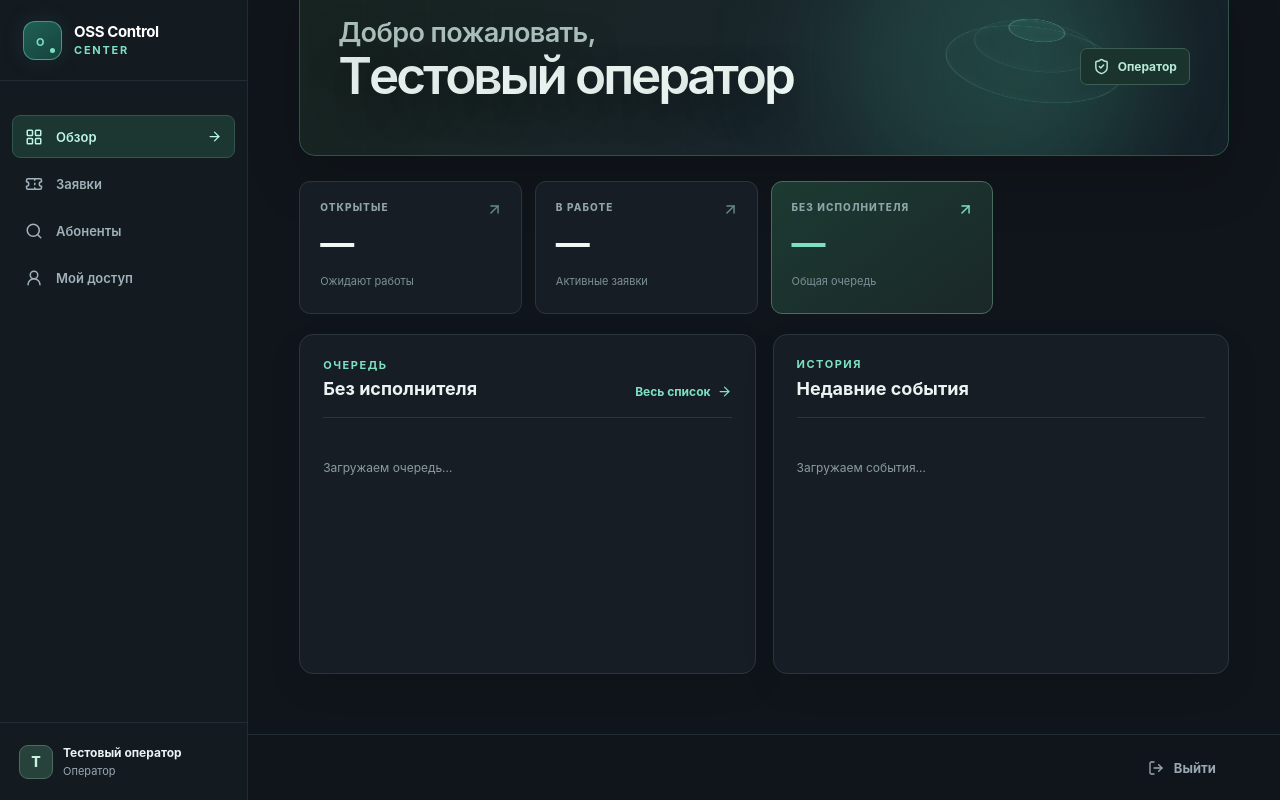
Scenario: session shell › clears private query state after confirmed logout
(page scrolled)
Expected: the heading "Добро пожаловать, Т е с т о в ы й о п е р а т о р" is shown, [338, 20, 793, 102]
What coordinates should you click on to do the following:
click the button "Выйти"
I would click on:
 (1182, 768)
Its box is [1135, 746, 1229, 788].
(page scrolled)
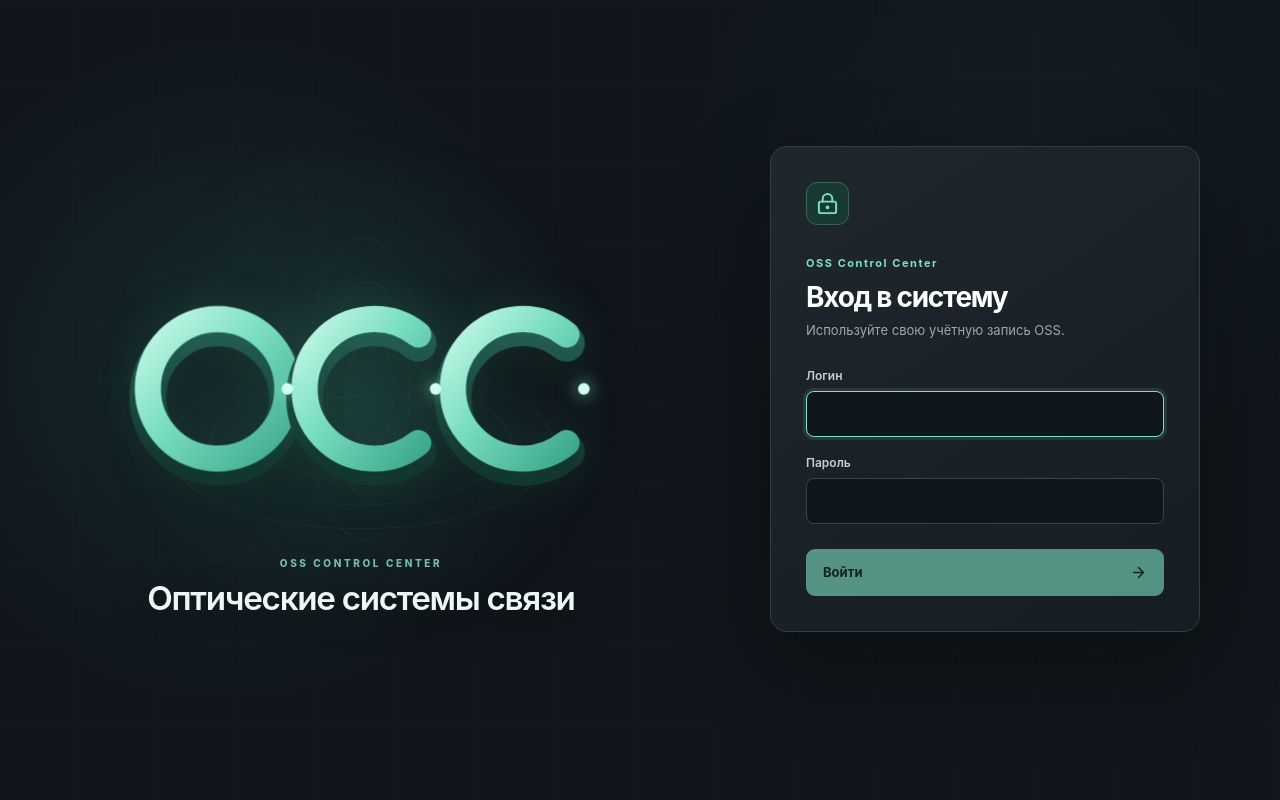
Expected: the heading "Вход в систему" is shown, [806, 280, 1007, 314]
